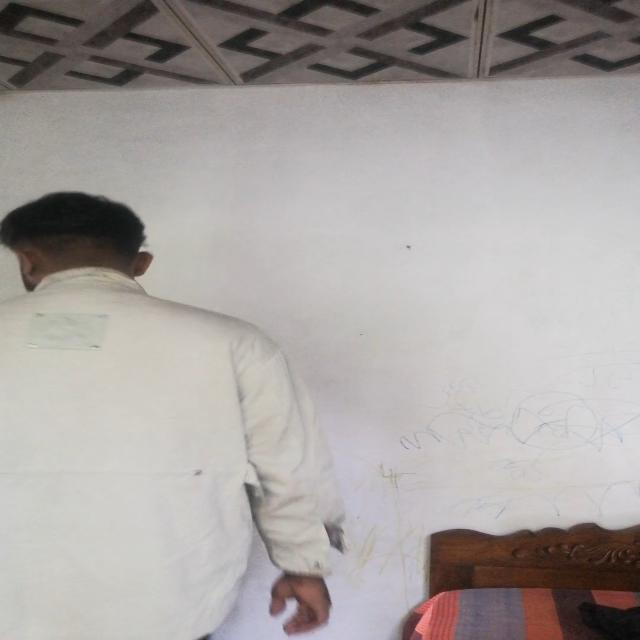Jacket_Wearer: (0, 286, 324, 640)
Person: (3, 190, 338, 640)
